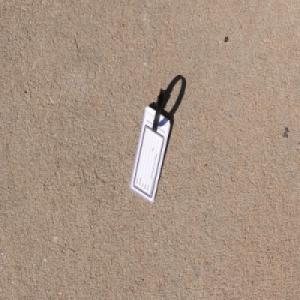LuggageTag: (129, 87, 171, 206)
